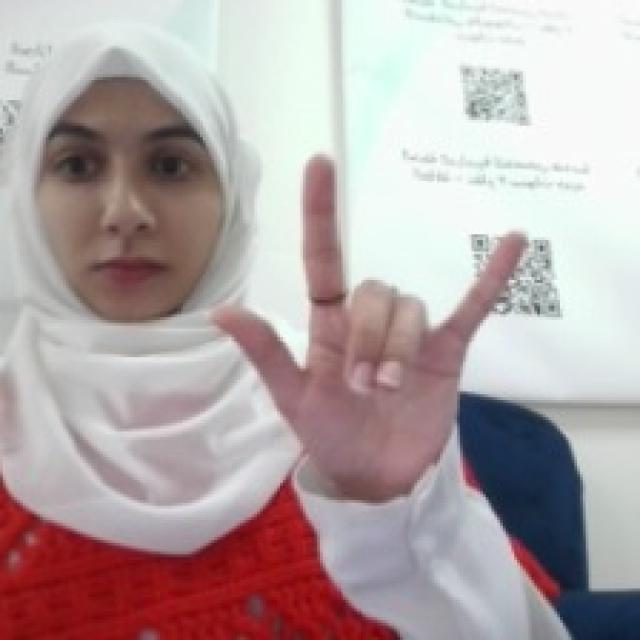love: (203, 146, 528, 480)
